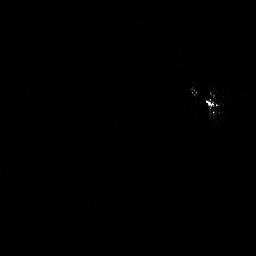ship: (190, 82, 223, 122)
